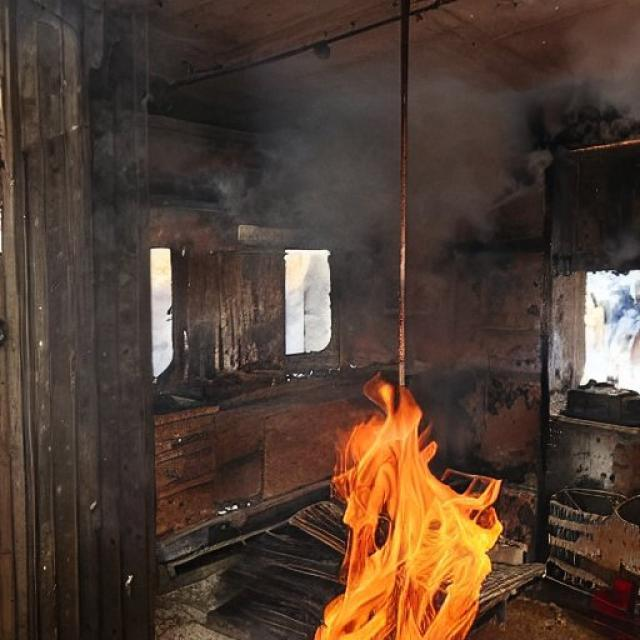Fire: (320, 392, 516, 640)
Smoke: (238, 43, 556, 390)
